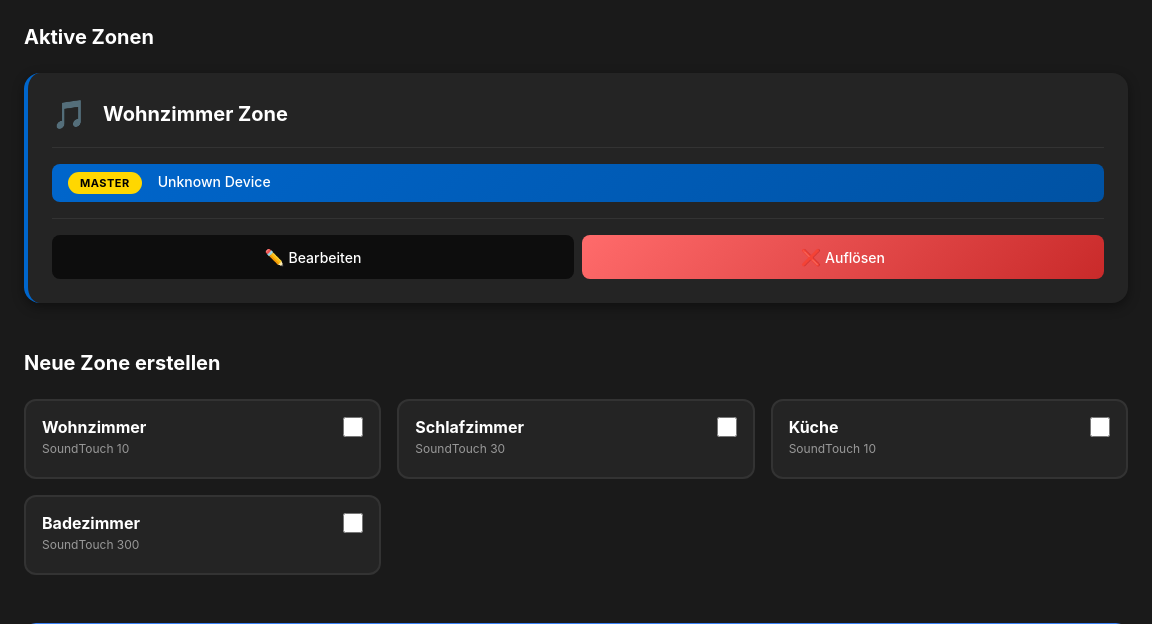
Test case: MultiRoom - Zone Creation › should create zone when 2 or more devices selected
The width and height of the screenshot is (1152, 624).
Click the checkbox labelled "Wohnzimmer SoundTouch 10": {"x": 353, "y": 427} [343,417,363,437]
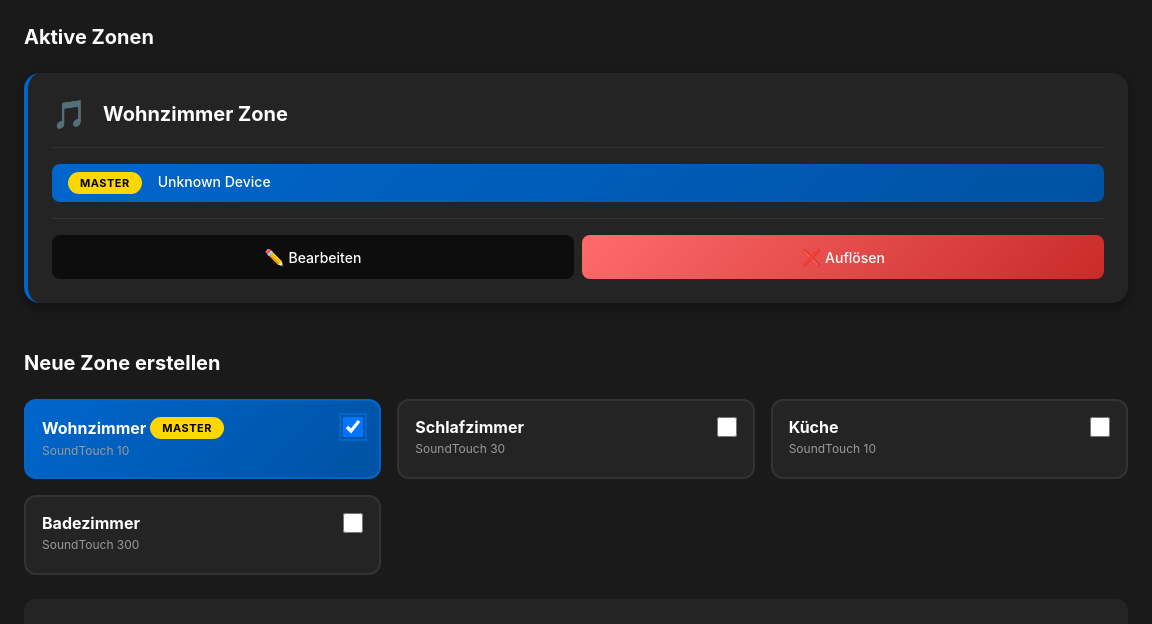
Click the checkbox labelled "Schlafzimmer SoundTouch 30": {"x": 727, "y": 427} [717,417,737,437]
(page scrolled)
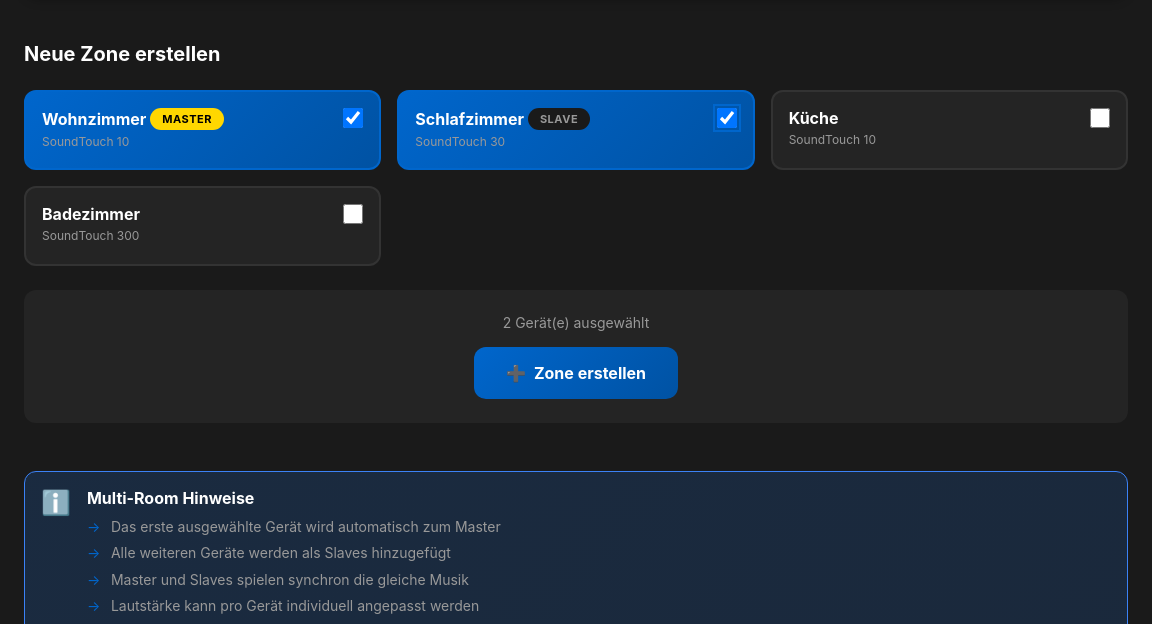
Now the button "➕ Zone erstellen" is enabled
// Create zone
Click the button "➕ Zone erstellen": {"x": 576, "y": 373} [474,347,678,399]
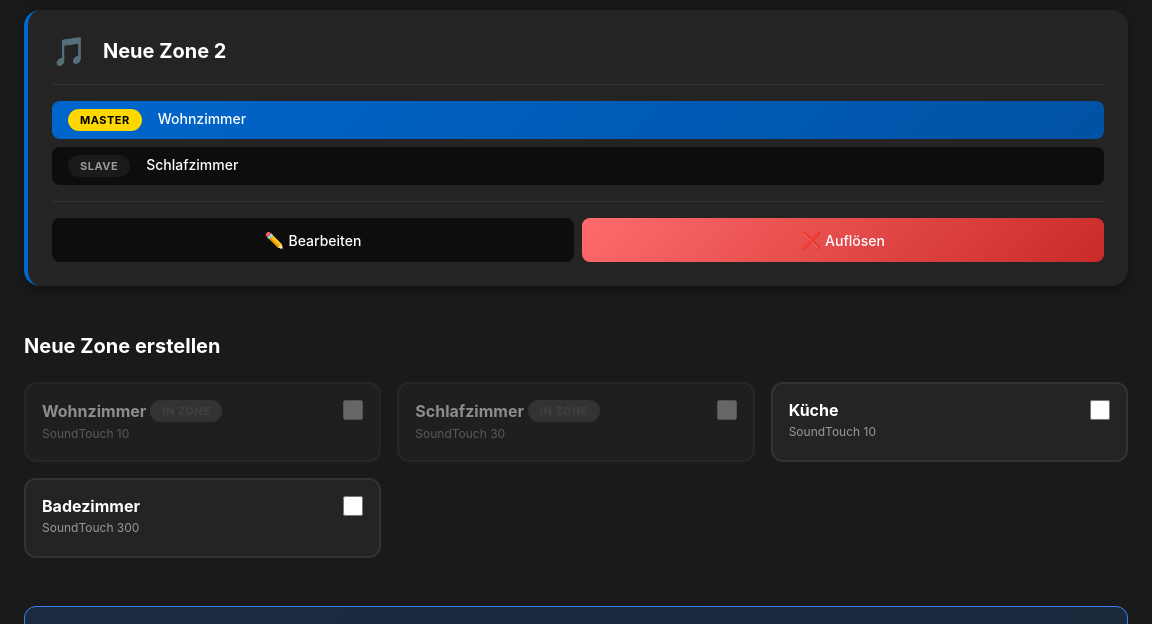
Now the heading "Neue Zone 2" is shown, box [103,39,226,63]
